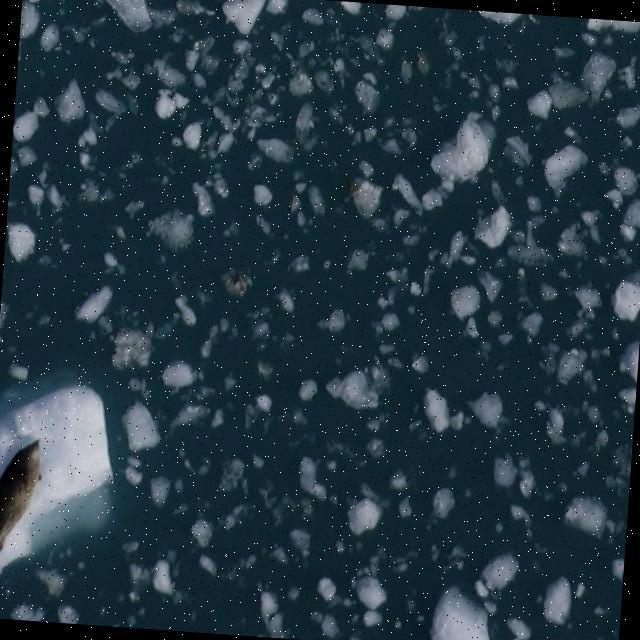seal: (0, 441, 42, 553)
